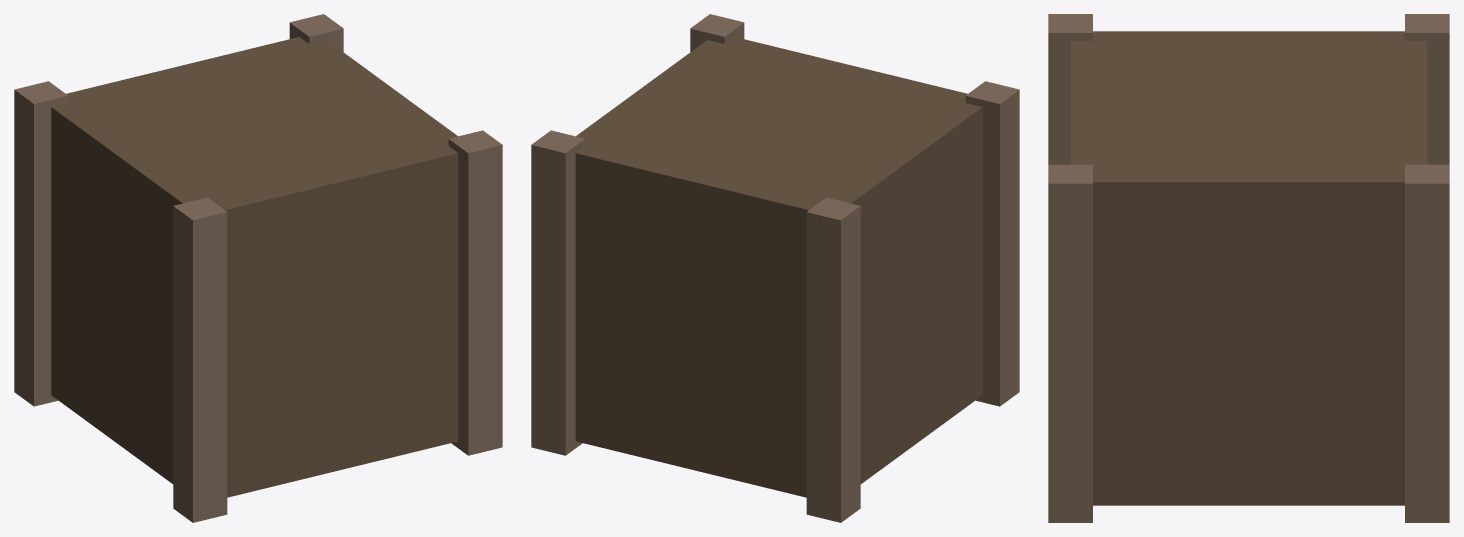
File: palette-crate.glb
The picture shows the model from 3 angles, left to right: view 1: azimuth 30°, elevation 25°; view 2: azimuth 150°, elevation 25°; view 3: azimuth 270°, elevation 25°; orthographic projection. The views are drawn at different scales.
Parts seen in each view (by area): view 1: Crate; view 2: Crate; view 3: Crate.
Part boxes in pixels (left/top/right/bottom): Crate: left=14, top=14, right=502, bottom=522; Crate: left=531, top=14, right=1019, bottom=522; Crate: left=1048, top=14, right=1449, bottom=522.
Bounding box in the file's own units: 0.9 × 0.84 × 0.9.
Materials: 1 (1 with a texture image).
